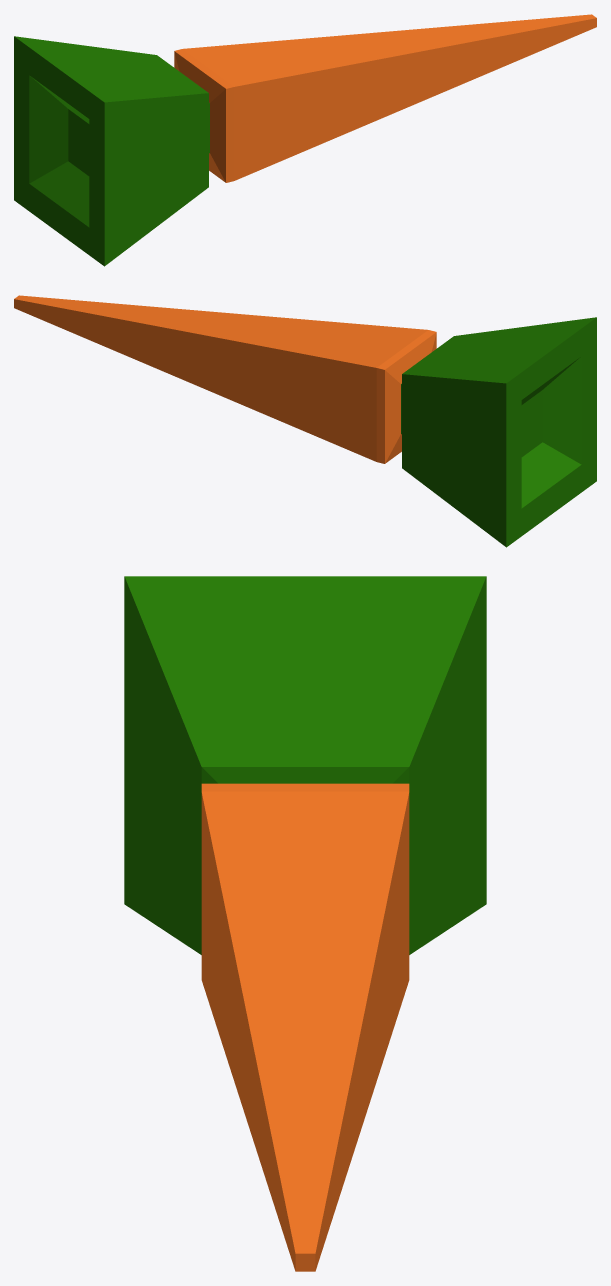
Rendered from carrot.glb.
3 renders of one model, top to bottom at view 1: azimuth 30°, elevation 25°; view 2: azimuth 150°, elevation 25°; view 3: azimuth 270°, elevation 25°, orthographic. The views are drawn at different scales.
Visible parts, largest first — view 1: Cube; view 2: Cube; view 3: Cube.
Part boxes in pixels (bbox=[...]): Cube: bbox=[14, 14, 596, 266]; Cube: bbox=[14, 295, 596, 547]; Cube: bbox=[124, 576, 486, 1271].
Size of the model in its own units: 3.75 by 1.1 by 1.1.
